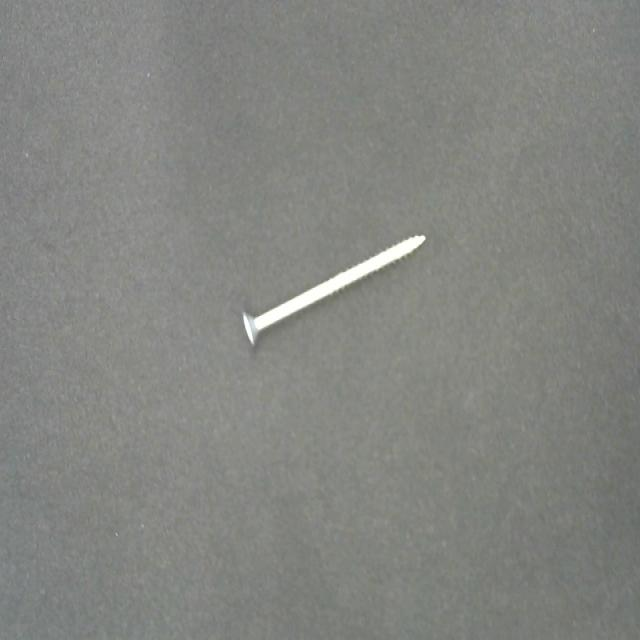WoodScrew: (240, 231, 426, 348)
